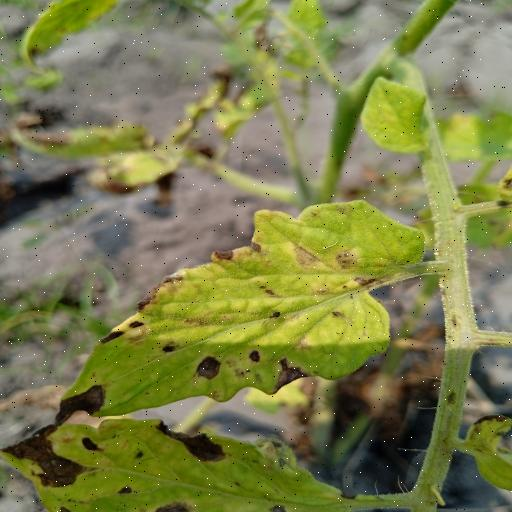Tomato_Brown_Spots: (55, 198, 442, 425), (0, 412, 406, 512)
